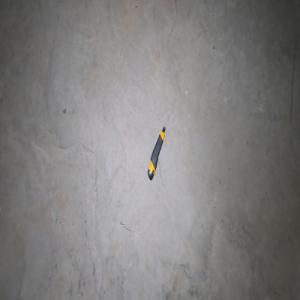Cutter: (147, 126, 166, 181)
